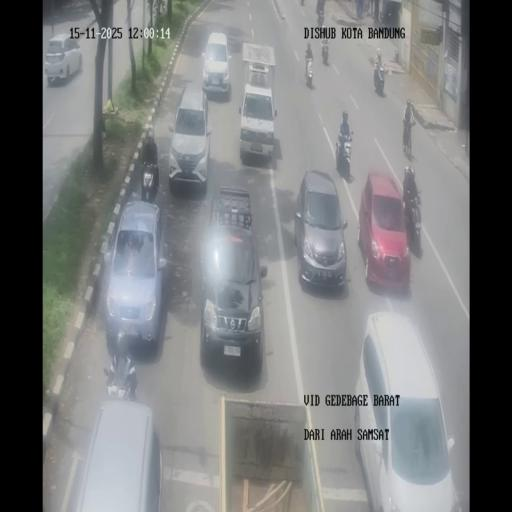3: (238, 43, 276, 163)
car: (354, 314, 459, 508), (198, 186, 264, 363), (66, 398, 162, 512), (103, 200, 168, 351), (294, 170, 347, 290), (358, 170, 410, 289), (169, 83, 212, 194), (44, 32, 82, 85), (201, 30, 231, 97)
truck: (404, 185, 423, 253), (141, 158, 159, 203), (336, 132, 353, 175), (402, 120, 414, 158), (374, 63, 386, 95), (304, 54, 314, 86), (321, 41, 330, 65), (316, 4, 325, 26), (363, 0, 370, 16), (379, 9, 384, 23)
